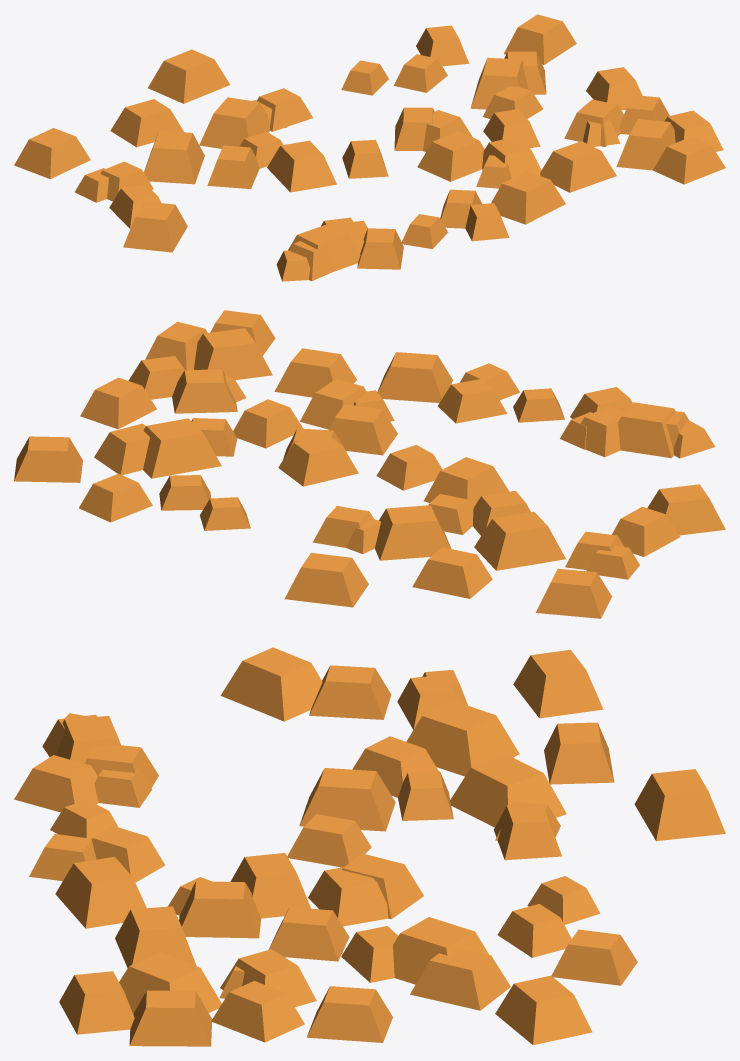
The model's file is coals.glb.
3 renders of one model, top to bottom at view 1: azimuth 30°, elevation 25°; view 2: azimuth 150°, elevation 25°; view 3: azimuth 270°, elevation 25°, orthographic. The views are drawn at different scales.
Parts seen in each view (by area): view 1: coals; view 2: coals; view 3: coals.
Part boxes in pixels (bbox=[...]): coals: bbox=[14, 14, 725, 281]; coals: bbox=[14, 310, 725, 618]; coals: bbox=[14, 647, 725, 1046].
Bounding box in the file's own units: 1.09 × 0.0535 × 0.8823.
